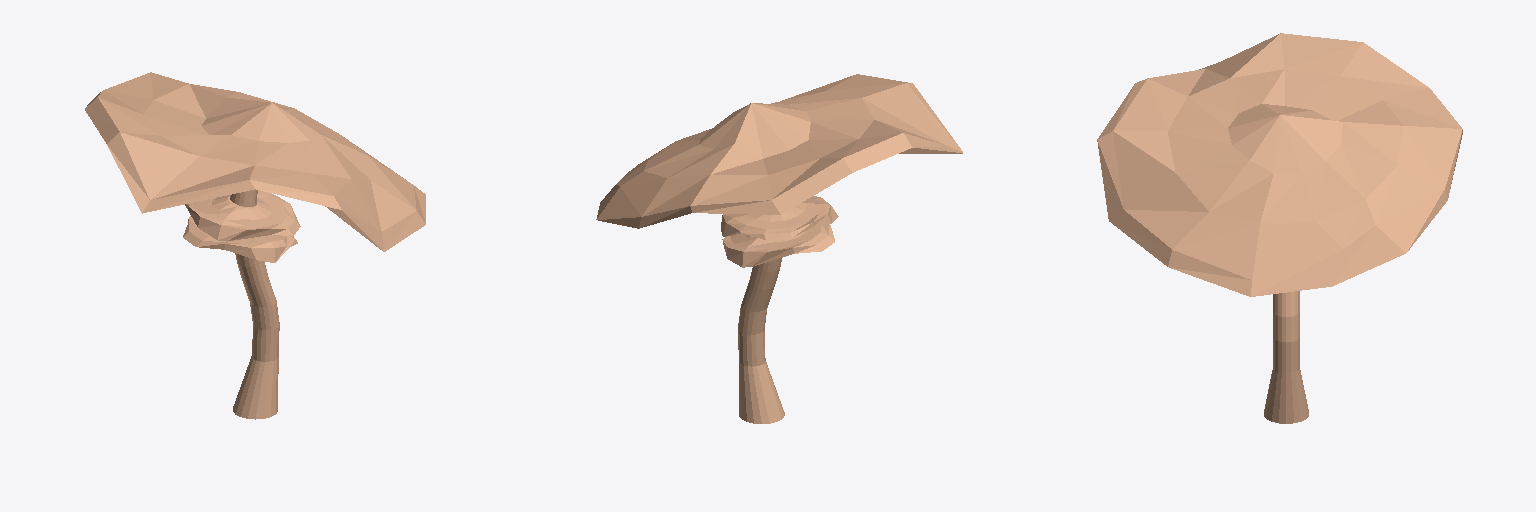
File: sets2.obj
3 renders of one model, left to right at view 1: azimuth 30°, elevation 25°; view 2: azimuth 150°, elevation 25°; view 3: azimuth 270°, elevation 25°, orthographic.
Visible parts, largest first — view 1: Cylinder013; view 2: Cylinder013; view 3: Cylinder013.
Part boxes in pixels (x1,y1,x2,y2): Cylinder013: (85, 72, 425, 419); Cylinder013: (596, 74, 962, 423); Cylinder013: (1097, 33, 1462, 423).
Size of the model in its own units: 0.4134 by 0.3995 by 0.4219.